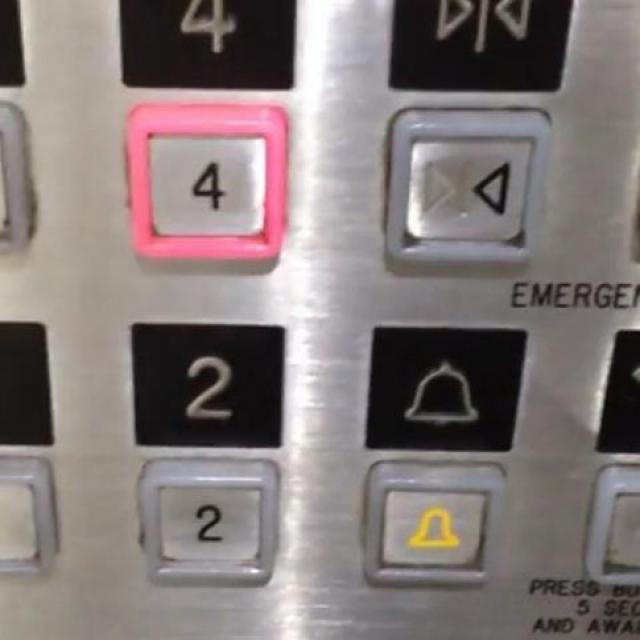2: (124, 312, 290, 453), (134, 455, 278, 584)
4: (128, 103, 282, 265)
alarm: (363, 320, 528, 453), (360, 460, 507, 587)
close: (380, 104, 550, 271)
